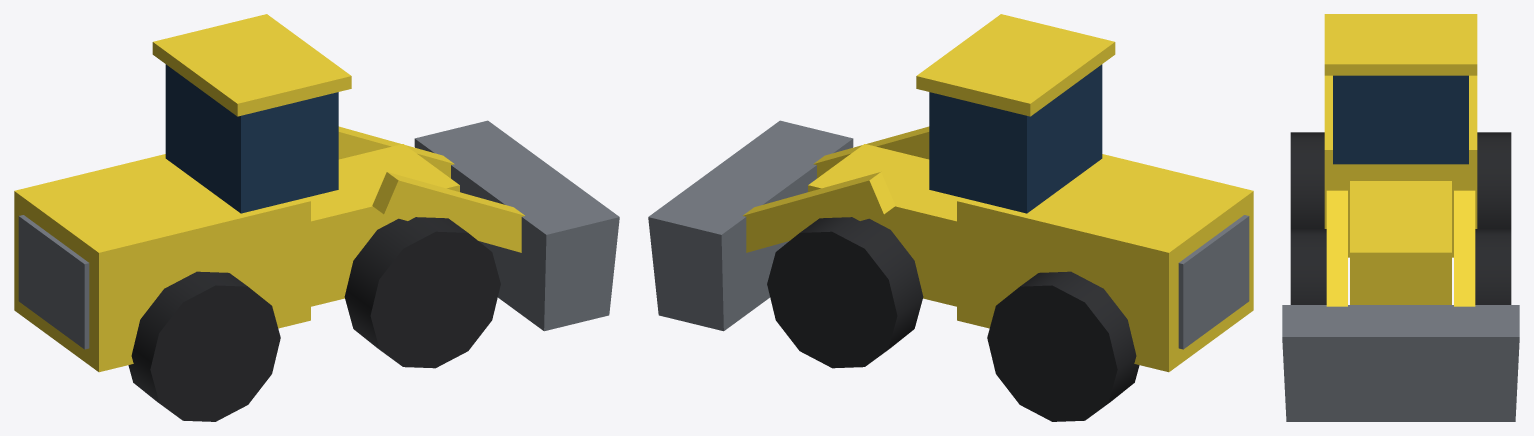
The model's file is site_loader.fbx.
3 renders of one model, left to right at view 1: azimuth 30°, elevation 25°; view 2: azimuth 150°, elevation 25°; view 3: azimuth 270°, elevation 25°, orthographic. The views are drawn at different scales.
Parts seen in each view (by area): view 1: a1089/0/site_loader; view 2: a1089/0/site_loader; view 3: a1089/0/site_loader.
Part boxes in pixels (left/top/right/bottom): a1089/0/site_loader: left=14, top=14, right=619, bottom=421; a1089/0/site_loader: left=648, top=14, right=1253, bottom=421; a1089/0/site_loader: left=1282, top=14, right=1519, bottom=421.
Bounding box in the file's own units: 6.16 × 3.45 × 2.8.
